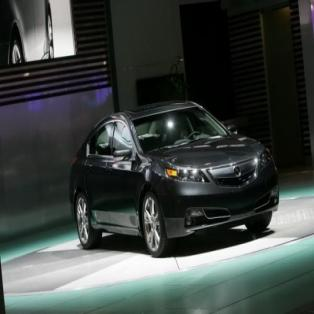Auto: (68, 97, 281, 258)
